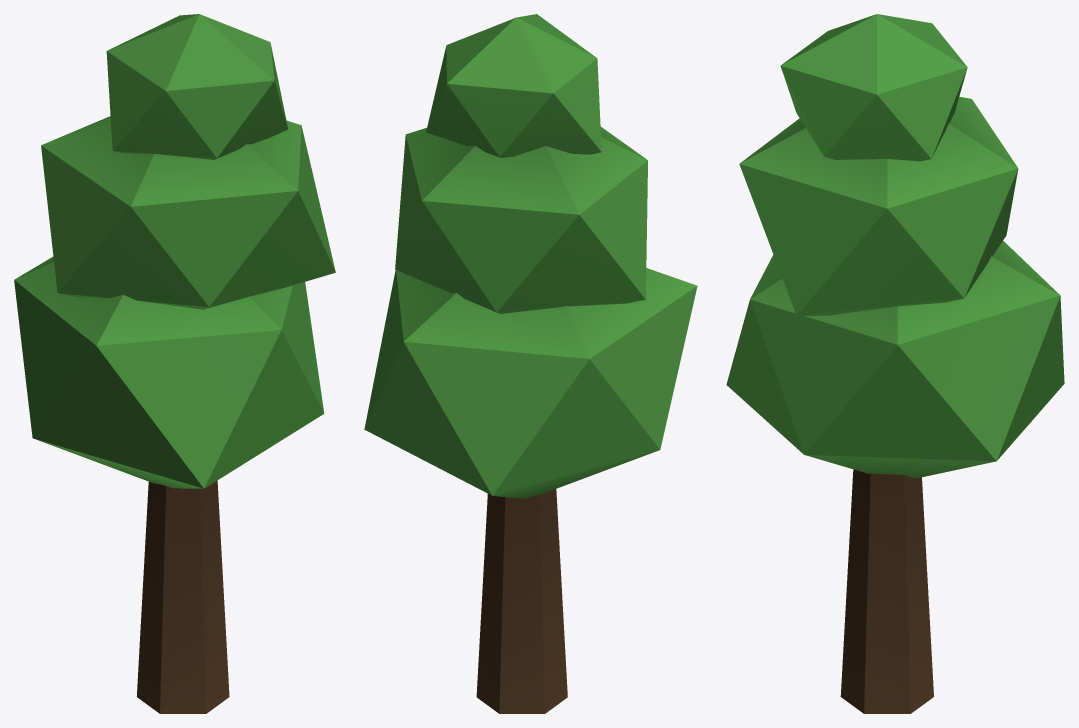
Rendered from tree.glb.
3 views of the same model, side by side, from view 1: azimuth 30°, elevation 25°; view 2: azimuth 150°, elevation 25°; view 3: azimuth 270°, elevation 25° (orthographic). The views are drawn at different scales.
Parts seen in each view (by area): view 1: tree; view 2: tree; view 3: tree.
Part boxes in pixels (x1=…): tree: x1=14, y1=14, x2=335, y2=713; tree: x1=364, y1=14, x2=697, y2=713; tree: x1=726, y1=14, x2=1064, y2=713.
Bounding box in the file's own units: 1.2 × 2.93 × 1.3.
